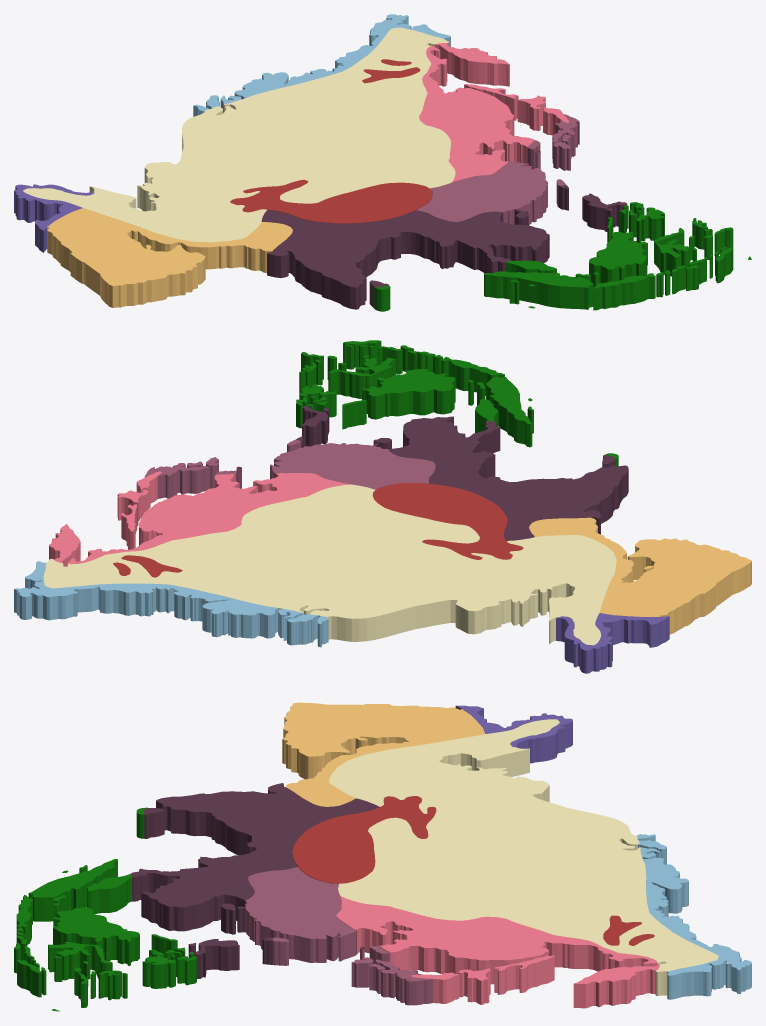
The model's file is AsiaWeather.glb.
The picture shows the model from 3 angles, top to bottom: view 1: azimuth 30°, elevation 25°; view 2: azimuth 150°, elevation 25°; view 3: azimuth 270°, elevation 25°; orthographic projection. The views are drawn at different scales.
Parts seen in each view (by area): view 1: 温带大陆性气候, 热带季风气候, 热带雨林气候, 热带沙漠气候, 温带季风气候, 亚热带季风气候, 高原山地气候, 寒带气候, 地中海气候; view 2: 温带大陆性气候, 热带雨林气候, 热带季风气候, 热带沙漠气候, 寒带气候, 温带季风气候, 亚热带季风气候, 高原山地气候, 地中海气候; view 3: 温带大陆性气候, 热带季风气候, 温带季风气候, 热带雨林气候, 亚热带季风气候, 热带沙漠气候, 高原山地气候, 寒带气候, 地中海气候.
Part boxes in pixels (left/top/right/bottom): 温带大陆性气候: left=23, top=27, right=455, bottom=242; 热带季风气候: left=261, top=184, right=627, bottom=309; 热带雨林气候: left=374, top=202, right=751, bottom=311; 热带沙漠气候: left=47, top=208, right=292, bottom=307; 温带季风气候: left=419, top=42, right=569, bottom=182; 亚热带季风气候: left=416, top=114, right=579, bottom=225; 高原山地气候: left=230, top=59, right=432, bottom=223; 寒带气候: left=193, top=14, right=450, bottom=116; 地中海气候: left=14, top=184, right=94, bottom=252; 温带大陆性气候: left=43, top=484, right=616, bottom=645; 热带雨林气候: left=296, top=340, right=618, bottom=466; 热带季风气候: left=296, top=406, right=628, bottom=540; 热带沙漠气候: left=529, top=517, right=751, bottom=634; 寒带气候: left=14, top=561, right=328, bottom=647; 温带季风气候: left=49, top=471, right=350, bottom=566; 亚热带季风气候: left=144, top=439, right=435, bottom=498; 高原山地气候: left=113, top=483, right=523, bottom=577; 地中海气候: left=556, top=613, right=669, bottom=673; 温带大陆性气候: left=328, top=719, right=718, bottom=995; 热带季风气候: left=131, top=783, right=379, bottom=978; 温带季风气候: left=336, top=896, right=659, bottom=1008; 热带雨林气候: left=14, top=807, right=196, bottom=1011; 亚热带季风气候: left=245, top=866, right=432, bottom=1005; 热带沙漠气候: left=282, top=702, right=484, bottom=806; 高原山地气候: left=292, top=796, right=654, bottom=945; 寒带气候: left=637, top=834, right=751, bottom=999; 地中海气候: left=455, top=705, right=572, bottom=763.
Bounding box in the file's own units: 22.29 × 0.8974 × 24.4.
